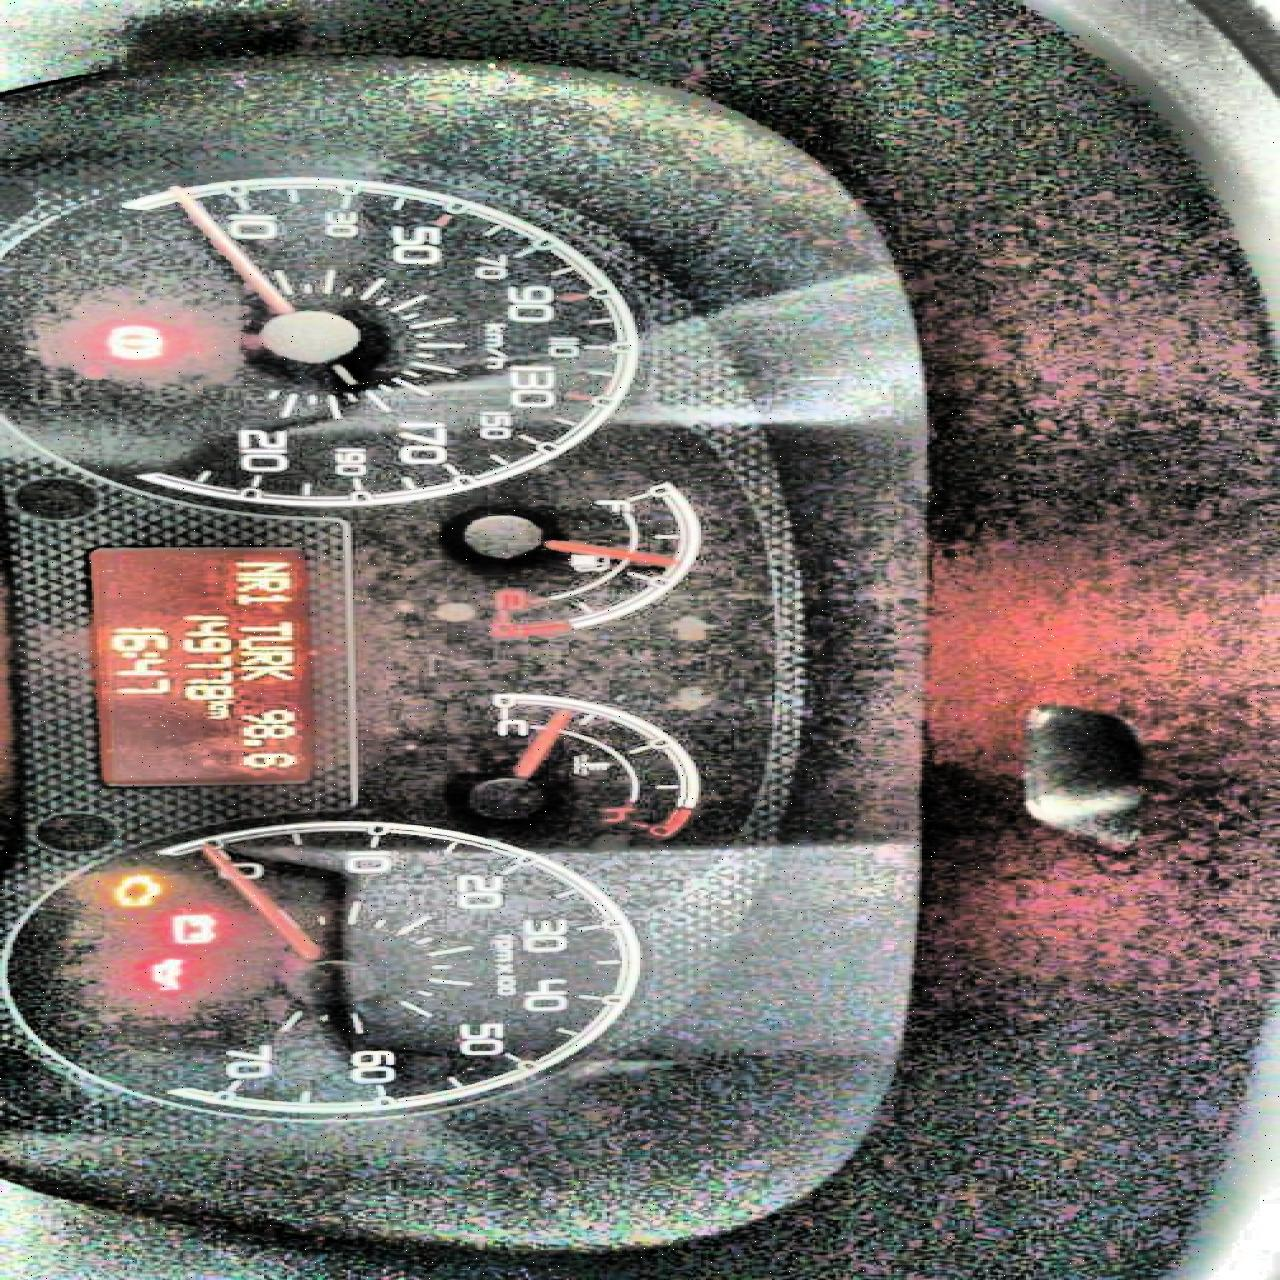-: (236, 737, 264, 748)
1: (233, 593, 294, 605), (175, 612, 231, 620), (104, 626, 168, 633)
4: (109, 658, 168, 675), (181, 620, 229, 636)
6: (239, 751, 298, 769), (107, 634, 168, 651)
7: (111, 678, 170, 693), (181, 669, 233, 682), (181, 655, 231, 667)
8: (181, 682, 233, 700), (237, 722, 294, 737)
9: (239, 707, 298, 722), (181, 636, 233, 653)
X: (236, 663, 297, 680), (233, 559, 290, 577), (237, 633, 294, 648), (231, 578, 292, 592), (233, 620, 292, 634), (237, 651, 294, 663), (203, 707, 229, 717), (114, 651, 159, 656), (203, 699, 231, 704)
odometer: (72, 544, 322, 789)
